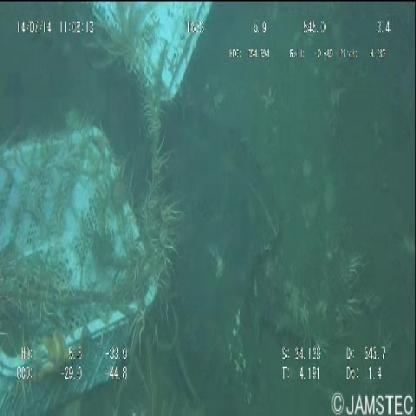Rác: (1, 2, 222, 408)
